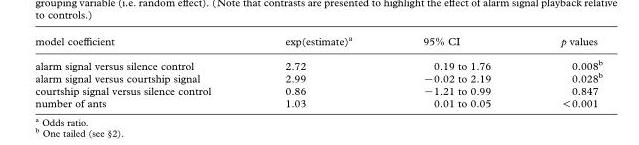table: (34, 34, 602, 108)
table column: (34, 34, 247, 108), (247, 34, 386, 108), (386, 34, 525, 108), (525, 34, 602, 108)
table column header: (34, 34, 602, 52)
table row: (34, 52, 602, 71), (34, 34, 602, 52), (34, 71, 602, 84), (34, 84, 602, 96), (34, 96, 602, 108)
